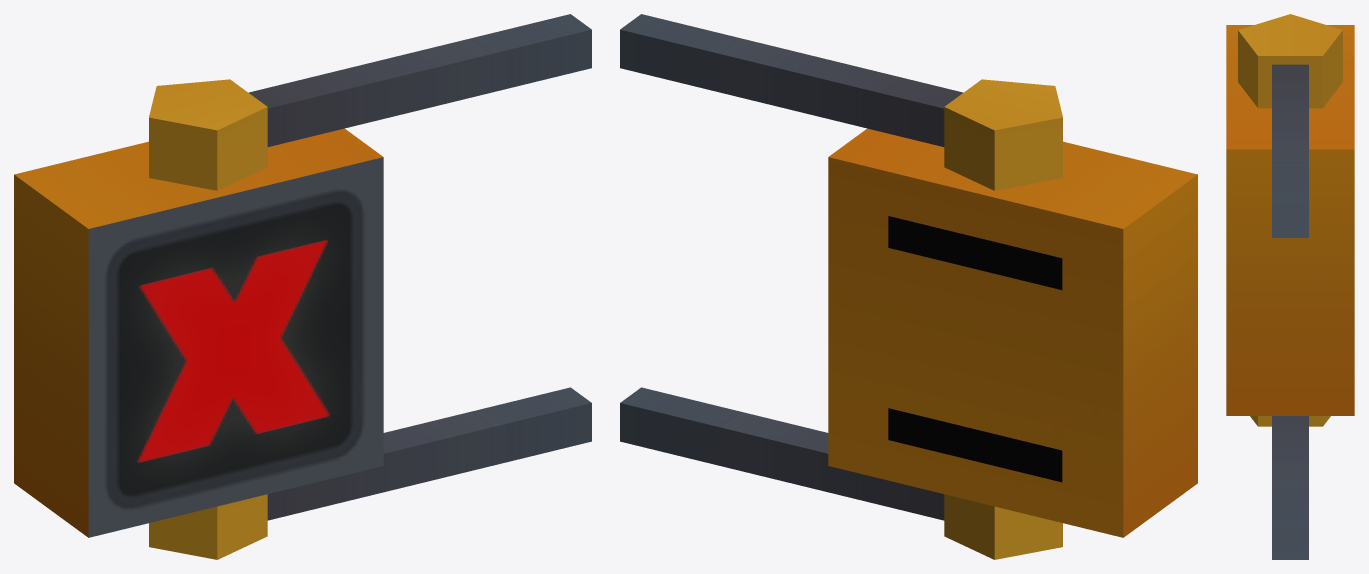
The model's file is SM_Traffic_Light_3C.FBX.
3 views of the same model, side by side, from view 1: azimuth 30°, elevation 25°; view 2: azimuth 150°, elevation 25°; view 3: azimuth 270°, elevation 25° (orthographic). The views are drawn at different scales.
Visible parts, largest first — view 1: SM_Traffic_Light_3C; view 2: SM_Traffic_Light_3C; view 3: SM_Traffic_Light_3C.
Part boxes in pixels (box(x1,y1,x2,y2)): SM_Traffic_Light_3C: box(14, 14, 591, 559); SM_Traffic_Light_3C: box(620, 14, 1197, 559); SM_Traffic_Light_3C: box(1226, 14, 1354, 559).
Size of what is drawn, in the model's own units: 144 by 35.01 by 111.
